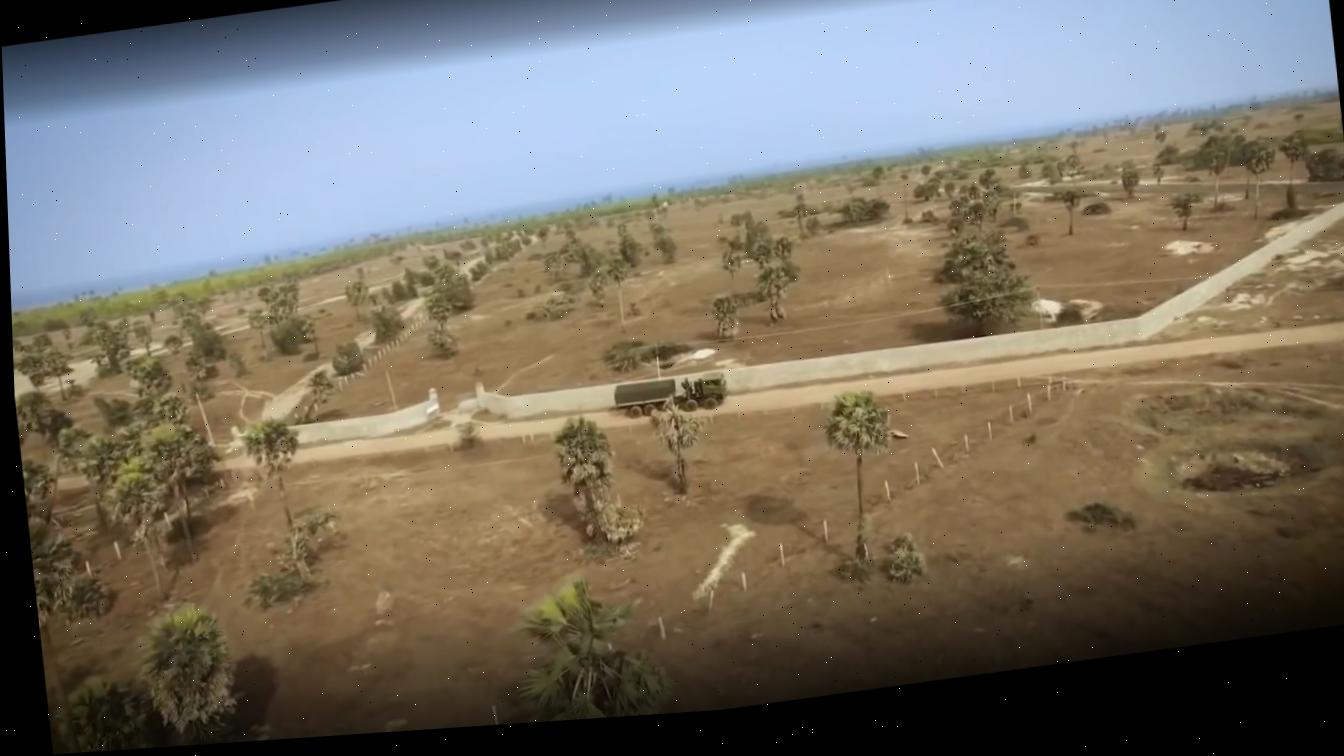truck: (607, 359, 735, 430)
